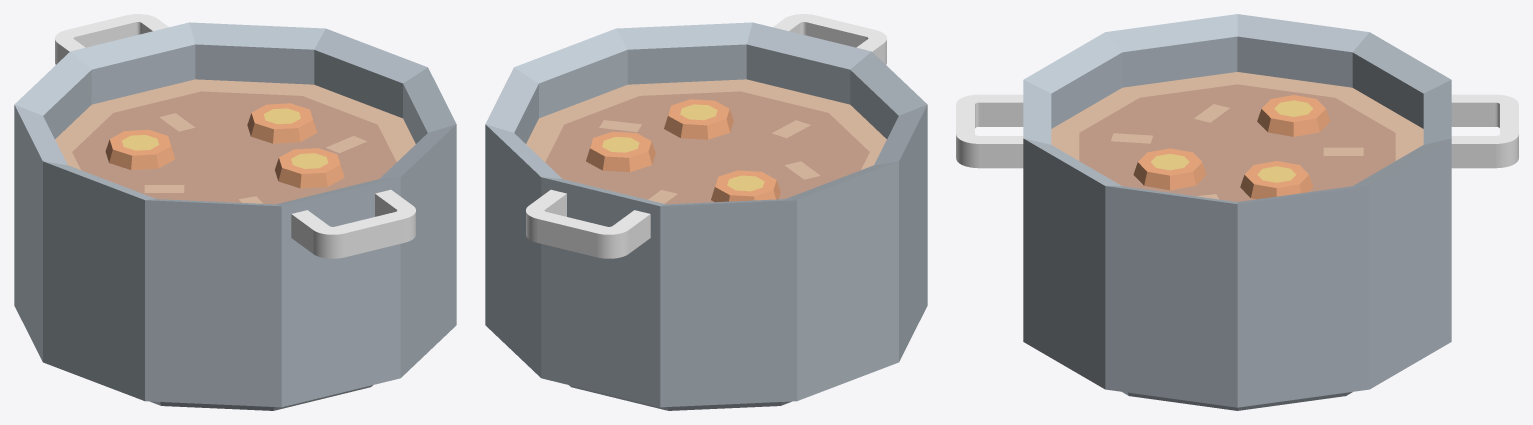
Rendered from potStew.glb.
3 renders of one model, left to right at view 1: azimuth 30°, elevation 25°; view 2: azimuth 150°, elevation 25°; view 3: azimuth 270°, elevation 25°, orthographic.
Visible parts, largest first — view 1: potStew; view 2: potStew; view 3: potStew.
Boxes of the visible parts, left/top/right/bottom form: potStew: left=14, top=14, right=456, bottom=410; potStew: left=485, top=14, right=927, bottom=410; potStew: left=956, top=14, right=1518, bottom=410.
Bounding box in the file's own units: 0.6574 × 0.3608 × 0.8221.
